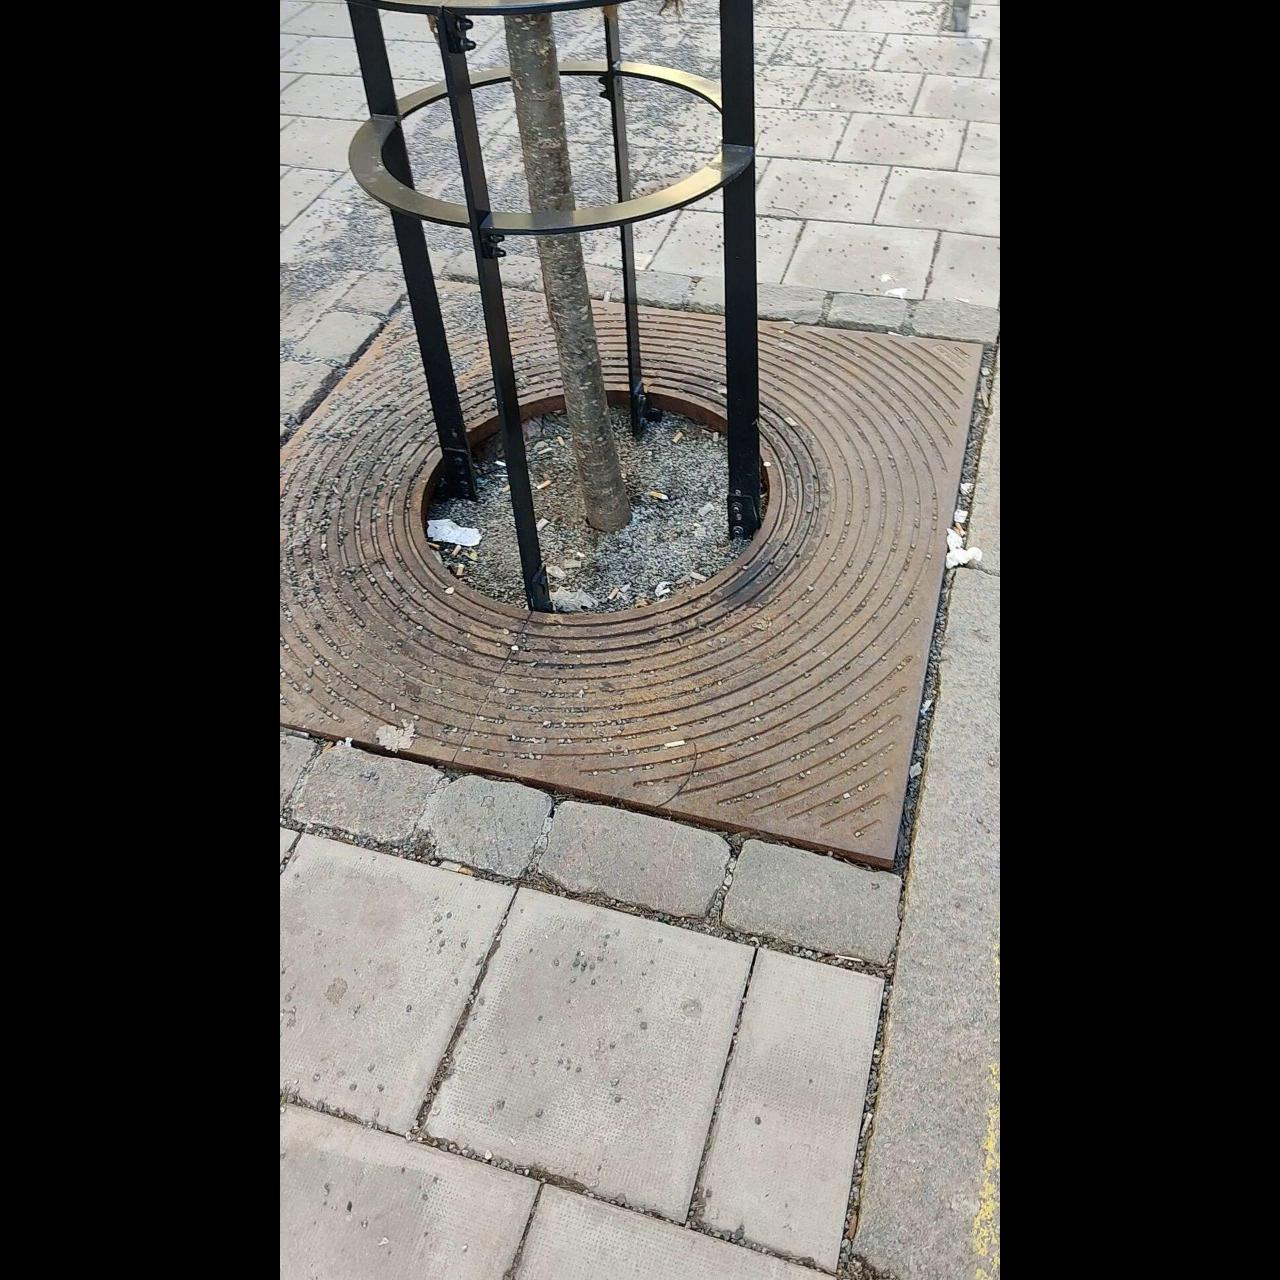cigarettes_butts: (651, 490, 669, 501), (956, 520, 966, 538), (606, 590, 617, 602), (454, 564, 464, 576), (670, 433, 680, 445), (692, 573, 708, 580), (536, 518, 545, 530), (538, 479, 549, 489), (665, 742, 681, 748), (557, 436, 565, 444), (452, 544, 457, 556), (502, 485, 508, 493)
others: (697, 503, 713, 515), (605, 293, 610, 304)
